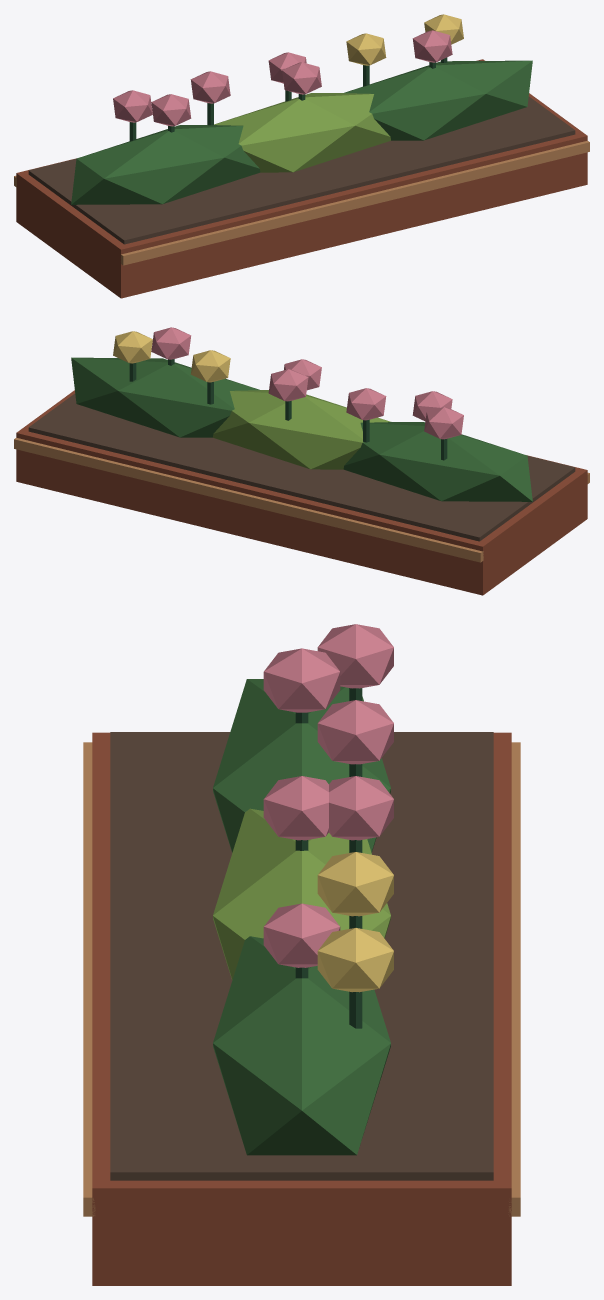
Rendered from Backyard_FlowerBed_Standard.glb.
The picture shows the model from 3 angles, top to bottom: view 1: azimuth 30°, elevation 25°; view 2: azimuth 150°, elevation 25°; view 3: azimuth 270°, elevation 25°; orthographic projection. The views are drawn at different scales.
Parts seen in each view (by area): view 1: Backyard_FlowerBed_Standard; view 2: Backyard_FlowerBed_Standard; view 3: Backyard_FlowerBed_Standard.
Boxes of the visible parts, bbox=[...] form: Backyard_FlowerBed_Standard: bbox=[14, 14, 589, 298]; Backyard_FlowerBed_Standard: bbox=[14, 327, 589, 595]; Backyard_FlowerBed_Standard: bbox=[83, 624, 520, 1285].
Size of the model in its own units: 3.6 by 1.04 by 1.46.
